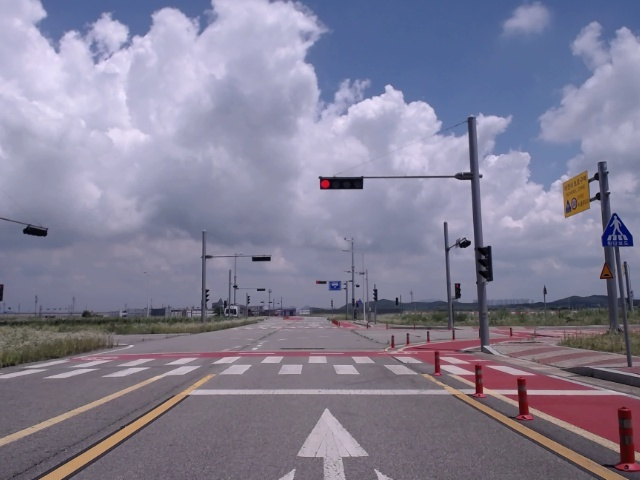red_4: (319, 177, 364, 190)
